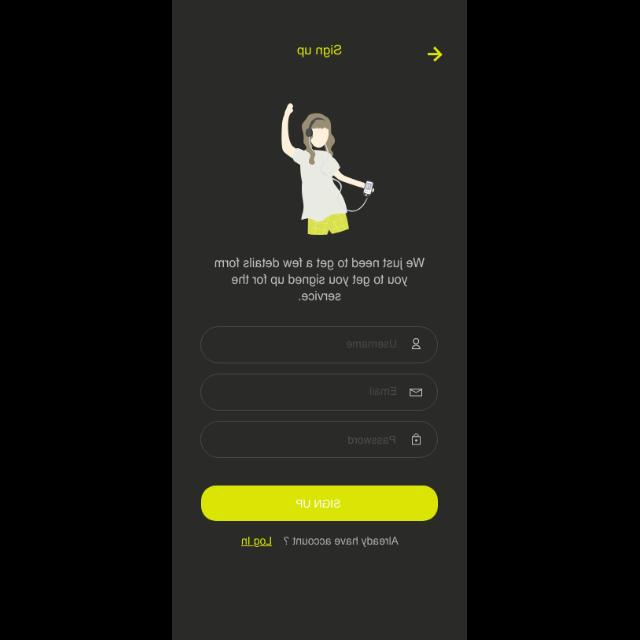icon: (427, 47, 443, 63), (412, 434, 422, 446), (412, 338, 422, 349), (410, 389, 422, 397)
image: (282, 103, 374, 235)
input: (200, 326, 438, 364), (200, 374, 438, 412), (200, 422, 438, 458)
text: (214, 258, 426, 302), (241, 536, 399, 548), (298, 45, 342, 59), (347, 340, 397, 348), (348, 436, 396, 444), (371, 386, 397, 396)
textbutton: (201, 486, 439, 522)
